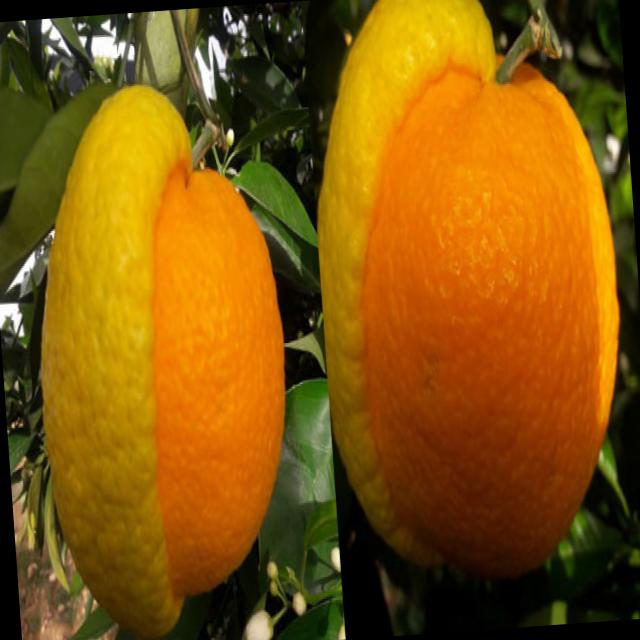orange: (316, 42, 634, 607), (39, 134, 312, 603)
